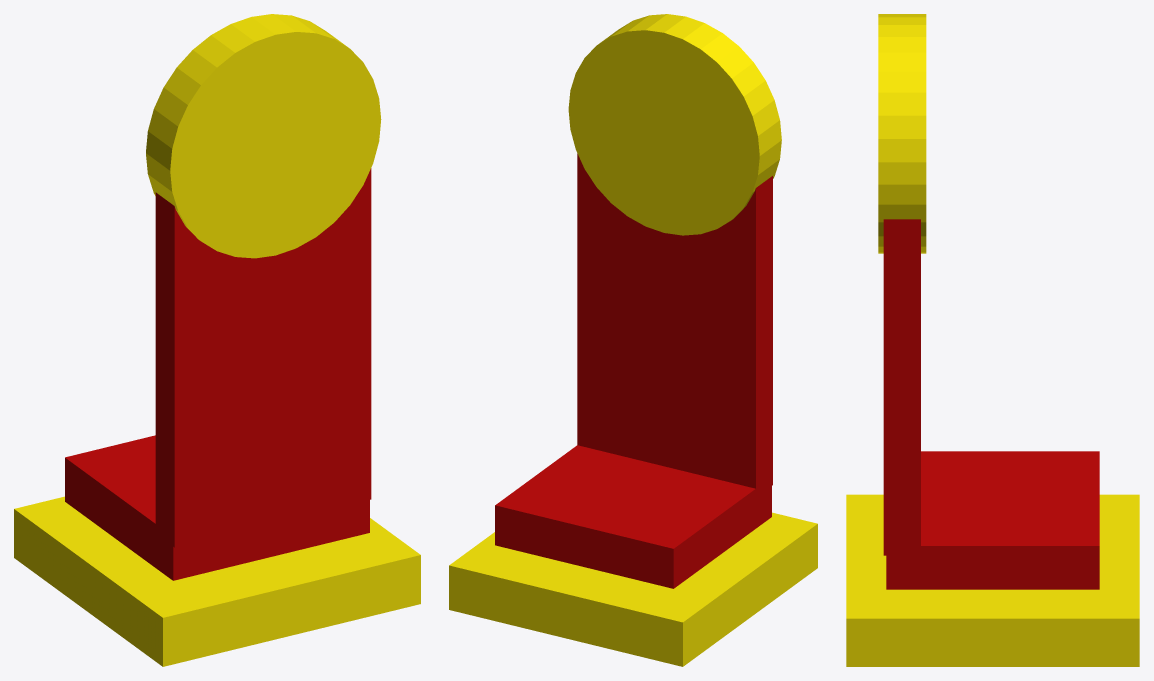
Rendered from chair_throne.glb.
The picture shows the model from 3 angles, left to right: view 1: azimuth 30°, elevation 25°; view 2: azimuth 150°, elevation 25°; view 3: azimuth 270°, elevation 25°; orthographic projection. The views are drawn at different scales.
Visible parts, largest first — view 1: Cube.002, Cylinder, Cube, Cube.001; view 2: Cube.002, Cylinder, Cube, Cube.001; view 3: Cube, Cube.001, Cube.002, Cylinder.
Boxes of the visible parts, box(x1,y1,x2,y2) form: Cube.002: box(155, 168, 371, 547); Cylinder: box(146, 14, 381, 258); Cube: box(14, 496, 420, 666); Cube.001: box(65, 435, 369, 580); Cube.002: box(577, 153, 772, 491); Cylinder: box(568, 14, 781, 235); Cube: box(449, 512, 817, 666); Cube.001: box(495, 445, 771, 588); Cube: box(846, 494, 1139, 666); Cube.001: box(886, 451, 1099, 589); Cube.002: box(883, 219, 920, 555); Cylinder: box(878, 14, 926, 253).
Bounding box in the file's own units: 1.1 × 2.4 × 1.1.
